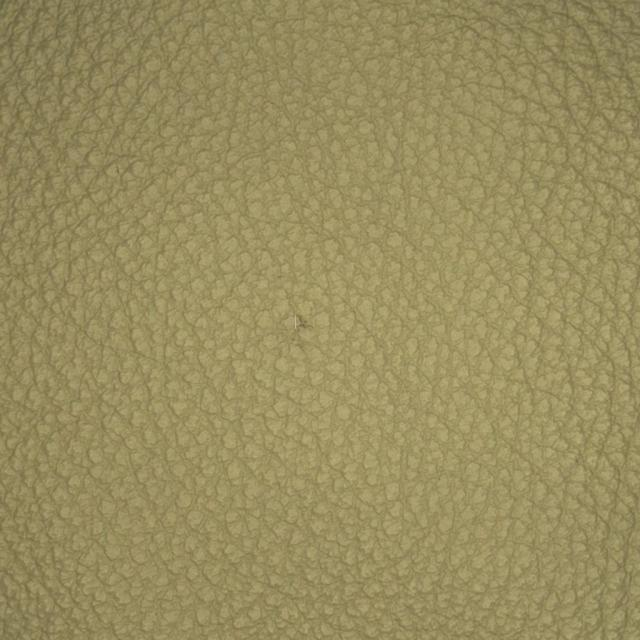Hole: (225, 221, 394, 431)
